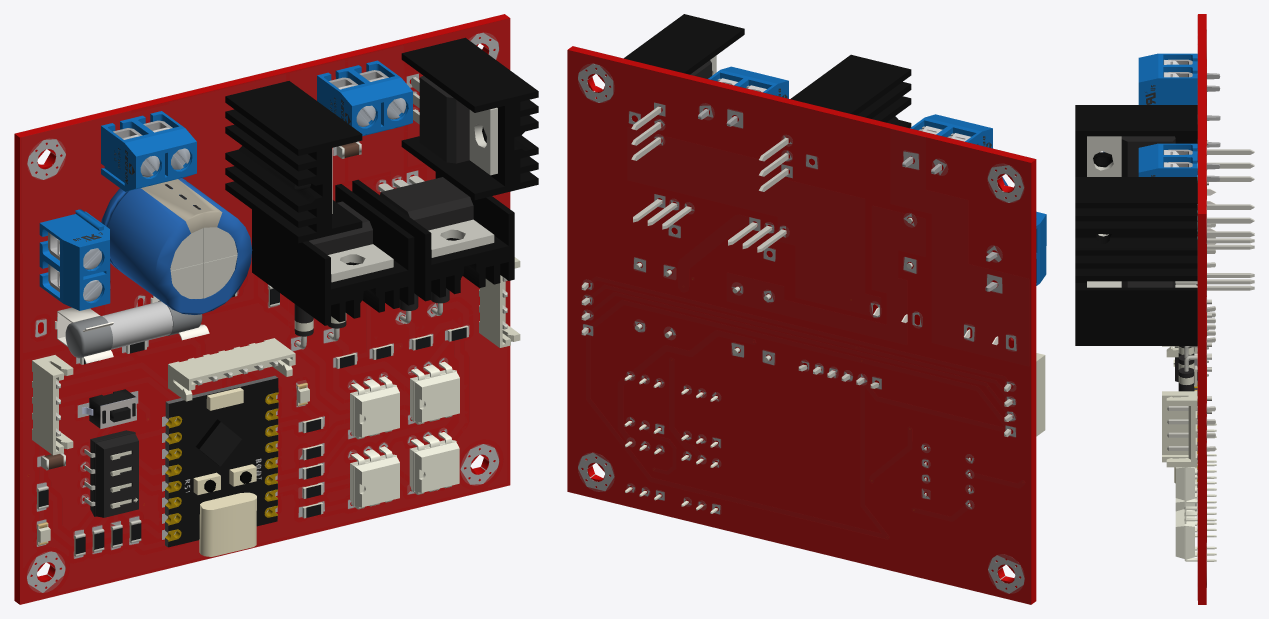
The model's file is puente-h.glb.
3 views of the same model, side by side, from view 1: azimuth 30°, elevation 25°; view 2: azimuth 150°, elevation 25°; view 3: azimuth 270°, elevation 25° (orthographic). The views are drawn at different scales.
Visible parts, largest first — view 1: Sup1, Sólido545, Sólido551, Sólido64, Sólido566, Sólido11, Sólido53, Sólido565, Sólido563, Sólido564, Sólido54, Sólido548 (+28 smaller); view 2: Sup1, Sólido545, Sólido103, Sólido45, Sólido66, Sólido49, Sólido566, Sólido565, Sólido98, Sólido555, Sólido95, Sólido62 (+13 smaller); view 3: Sólido565, Sólido564, Sólido545, Sólido566, Sólido555, Sólido19, Sólido41, Sólido560, Sólido24, Sólido4, Sólido10, Sólido2 (+5 smaller).
Part boxes in pixels (left/top/right/bottom): Sup1: left=14, top=14, right=510, bottom=604; Sólido545: left=14, top=14, right=510, bottom=604; Sólido551: left=165, top=375, right=278, bottom=556; Sólido64: left=21, top=74, right=285, bottom=352; Sólido566: left=225, top=81, right=362, bottom=243; Sólido11: left=101, top=178, right=252, bottom=314; Sólido53: left=58, top=276, right=506, bottom=591; Sólido565: left=401, top=37, right=538, bottom=200; Sólido563: left=252, top=184, right=414, bottom=325; Sólido564: left=352, top=172, right=514, bottom=301; Sólido54: left=23, top=303, right=409, bottom=567; Sólido548: left=39, top=209, right=110, bottom=310; Sup1: left=567, top=46, right=1030, bottom=604; Sólido545: left=568, top=46, right=1036, bottom=604; Sólido103: left=627, top=127, right=880, bottom=317; Sólido45: left=890, top=129, right=1029, bottom=365; Sólido66: left=727, top=206, right=925, bottom=344; Sólido49: left=586, top=300, right=1010, bottom=539; Sólido566: left=790, top=54, right=911, bottom=128; Sólido565: left=624, top=14, right=744, bottom=74; Sólido98: left=590, top=292, right=1009, bottom=414; Sólido555: left=902, top=114, right=992, bottom=174; Sólido95: left=589, top=285, right=1009, bottom=398; Sólido62: left=589, top=277, right=1009, bottom=383; Sólido565: left=1075, top=177, right=1197, bottom=281; Sólido564: left=1075, top=281, right=1197, bottom=345; Sólido545: left=1198, top=14, right=1206, bottom=604; Sólido566: left=1075, top=105, right=1197, bottom=176; Sólido555: left=1138, top=53, right=1220, bottom=104; Sólido19: left=1087, top=136, right=1254, bottom=181; Sólido41: left=1162, top=391, right=1215, bottom=467; Sólido560: left=1138, top=143, right=1220, bottom=181; Sólido24: left=1087, top=273, right=1254, bottom=290; Sólido4: left=1175, top=506, right=1216, bottom=561; Sólido10: left=1098, top=204, right=1254, bottom=237; Sólido2: left=1175, top=448, right=1216, bottom=503.
Size of the model in its own units: 0.0806 by 0.0734 by 0.0305.
